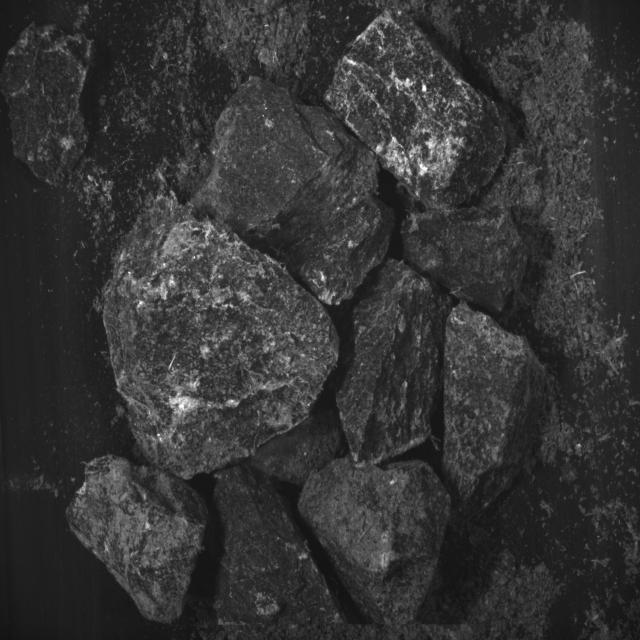Stones: (105, 202, 340, 480), (194, 79, 395, 306), (326, 12, 506, 210), (300, 460, 451, 626), (67, 457, 209, 624), (337, 260, 452, 465), (444, 303, 546, 514), (215, 466, 340, 624), (1, 25, 94, 186), (402, 208, 527, 313)
